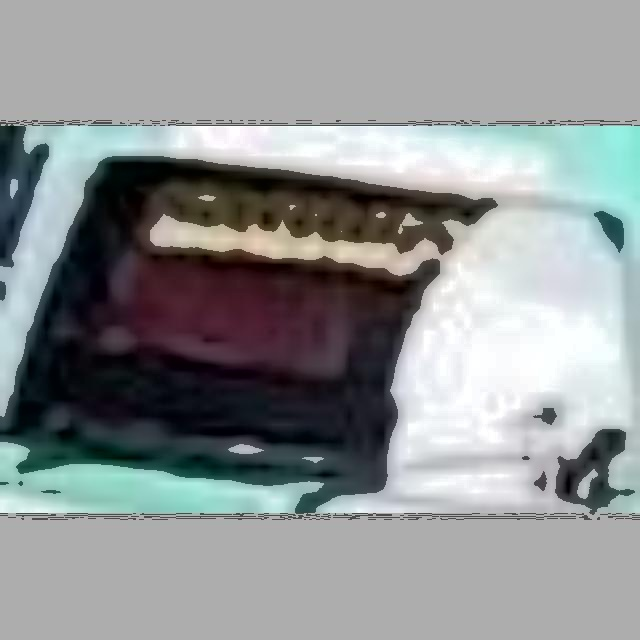tidak-pakai: (67, 193, 371, 421)
